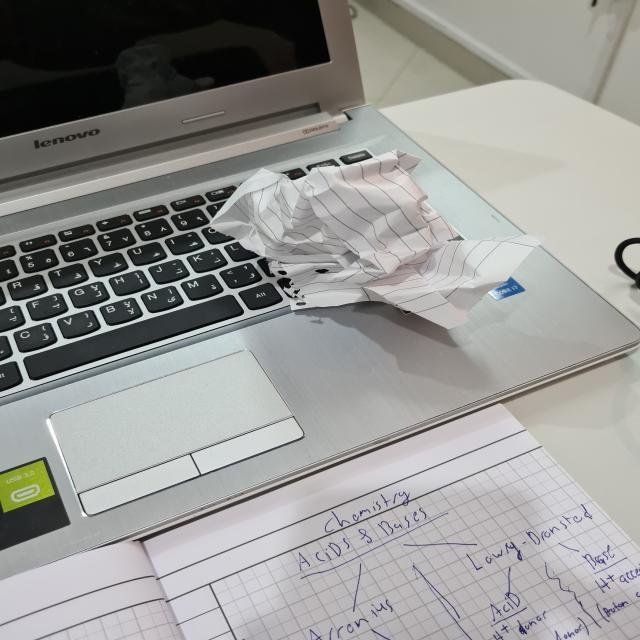Paper: (214, 148, 553, 309)
